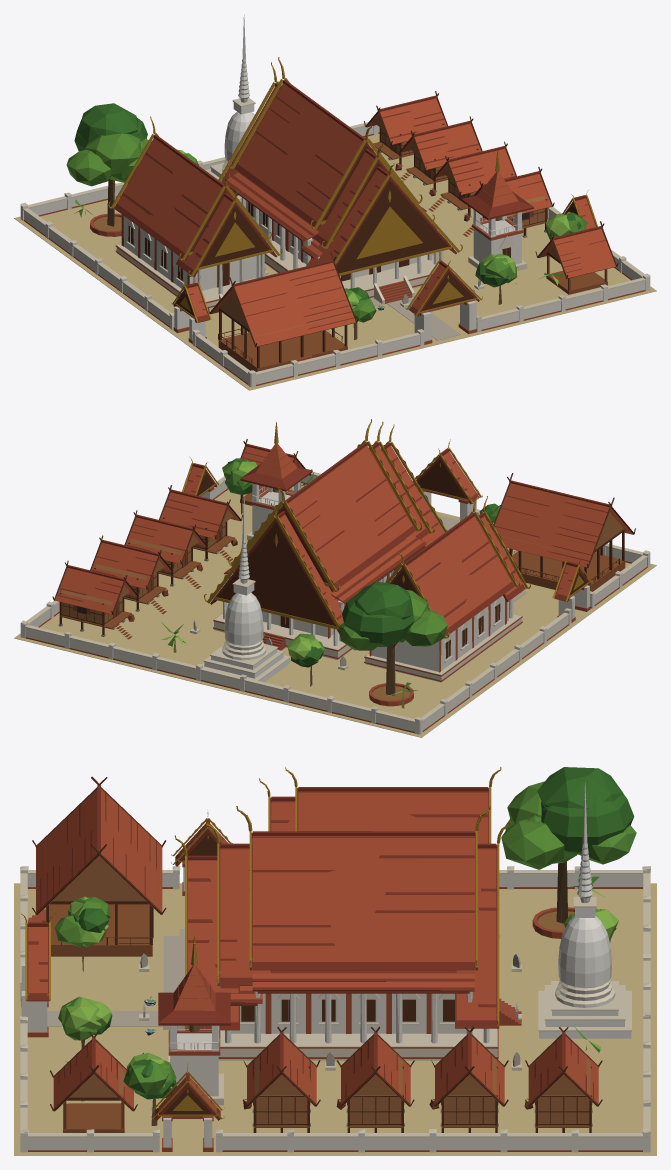
Rendered from temple_3.glb.
3 views of the same model, one above another, from view 1: azimuth 30°, elevation 25°; view 2: azimuth 150°, elevation 25°; view 3: azimuth 270°, elevation 25° (orthographic). The views are drawn at different scales.
Visible parts, largest first — view 1: body; view 2: body; view 3: body.
Boxes of the visible parts, x1,y1,x2,y2 form: body: [14, 14, 656, 390]; body: [14, 419, 656, 737]; body: [14, 767, 656, 1155].
Bounding box in the file's own units: 47.9 × 19.57 × 47.9.
